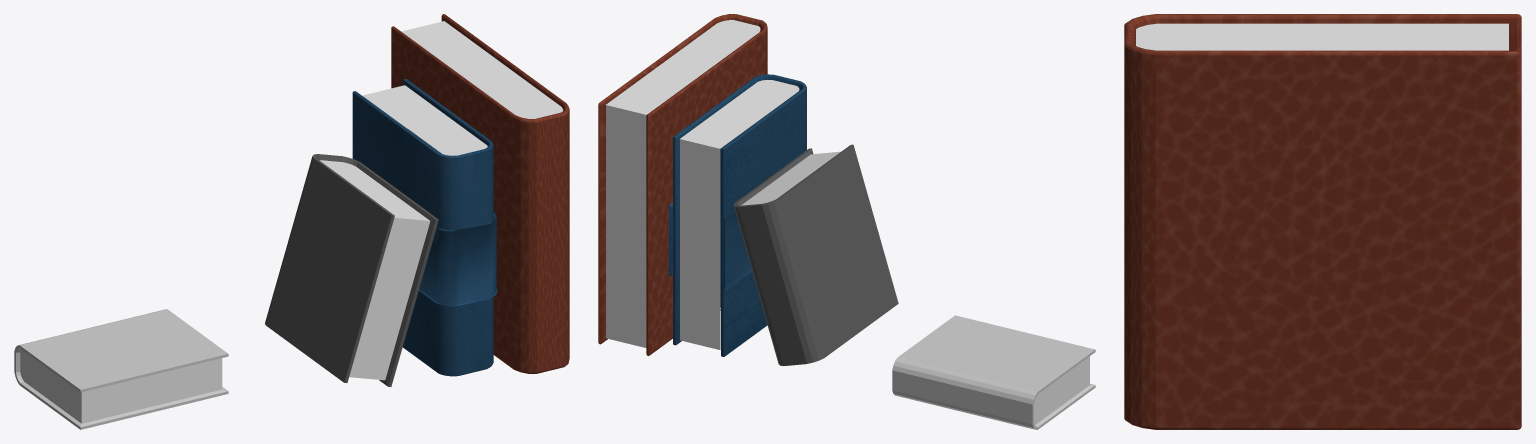
Rendered from Libros_Estantería.fbx.
3 views of the same model, side by side, from view 1: azimuth 30°, elevation 25°; view 2: azimuth 150°, elevation 25°; view 3: azimuth 270°, elevation 25° (orthographic). The views are drawn at different scales.
Visible parts, largest first — view 1: Cube.226, Cube.224, Cube.227, Cube.225, Cube.230, Cube.231, Cube.111, Cube.112; view 2: Cube.227, Cube.111, Cube.225, Cube.226, Cube.224, Cube.112, Cube.231, Cube.230; view 3: Cube.226, Cube.111.
Part boxes in pixels (x1,y1,x2,y2): Cube.226: (391, 14, 569, 373); Cube.224: (352, 78, 497, 376); Cube.227: (265, 154, 438, 386); Cube.225: (14, 309, 228, 429); Cube.230: (320, 160, 430, 380); Cube.231: (20, 349, 222, 423); Cube.111: (401, 21, 563, 118); Cube.112: (362, 85, 487, 155); Cube.227: (733, 144, 898, 365); Cube.111: (605, 20, 760, 347); Cube.225: (892, 315, 1095, 429); Cube.226: (598, 14, 767, 355); Cube.224: (668, 74, 806, 356); Cube.112: (679, 80, 799, 349); Cube.231: (1034, 356, 1089, 424); Cube.230: (741, 151, 840, 205); Cube.226: (1124, 14, 1521, 429); Cube.111: (1136, 23, 1508, 50).
Size of the model in its own units: 441 by 243 by 230.
